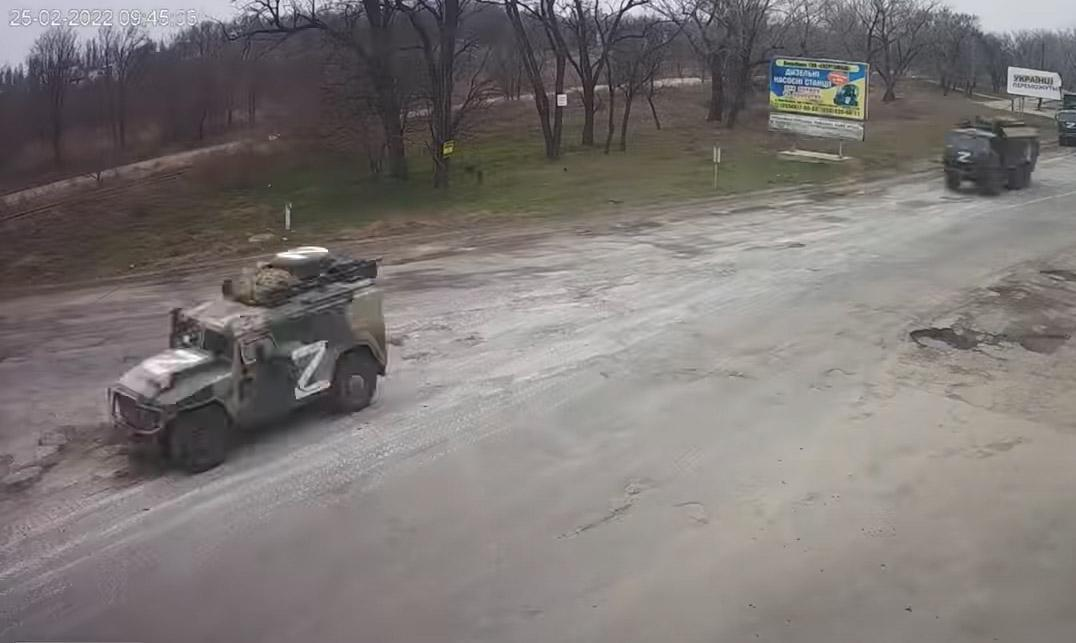armored_car: (106, 248, 402, 468)
truck: (942, 106, 1040, 198), (1052, 97, 1076, 154)
